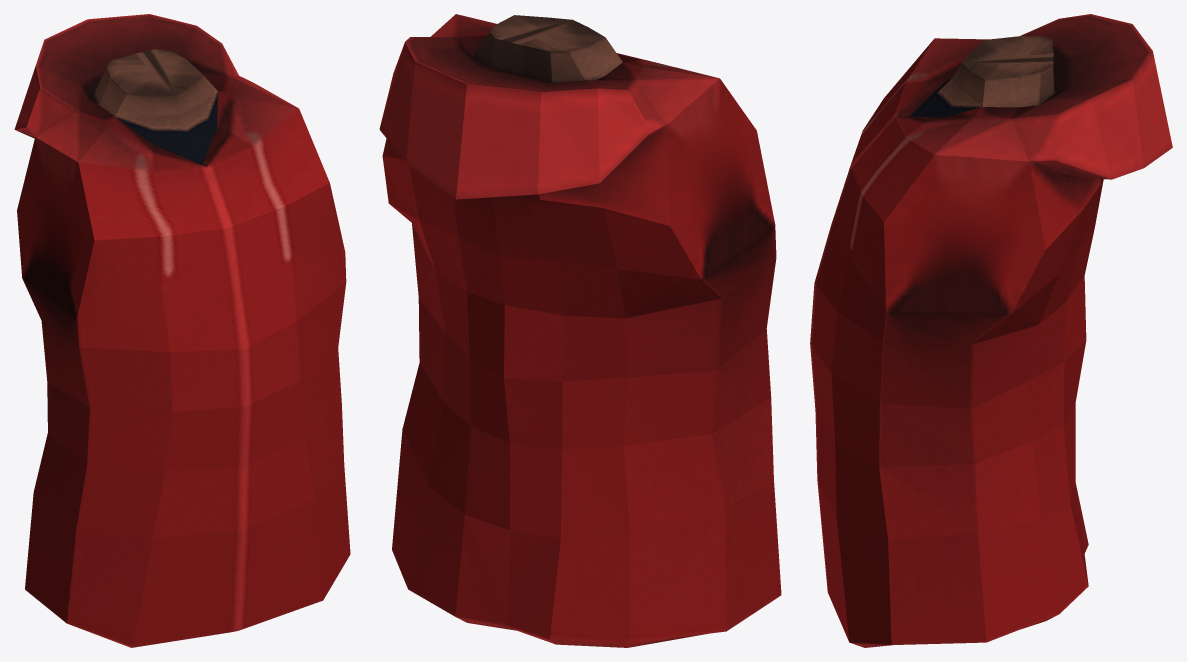
The model's file is torso.obj.
3 renders of one model, left to right at view 1: azimuth 30°, elevation 25°; view 2: azimuth 150°, elevation 25°; view 3: azimuth 270°, elevation 25°, orthographic. The views are drawn at different scales.
Visible parts, largest first — view 1: Body_body_mesh.007; view 2: Body_body_mesh.007; view 3: Body_body_mesh.007.
Part boxes in pixels (x1,y1,x2,y2): Body_body_mesh.007: (14,14,350,647); Body_body_mesh.007: (379,14,781,647); Body_body_mesh.007: (810,14,1172,647).
Bounding box in the file's own units: 0.5261 × 0.9021 × 0.5396.
